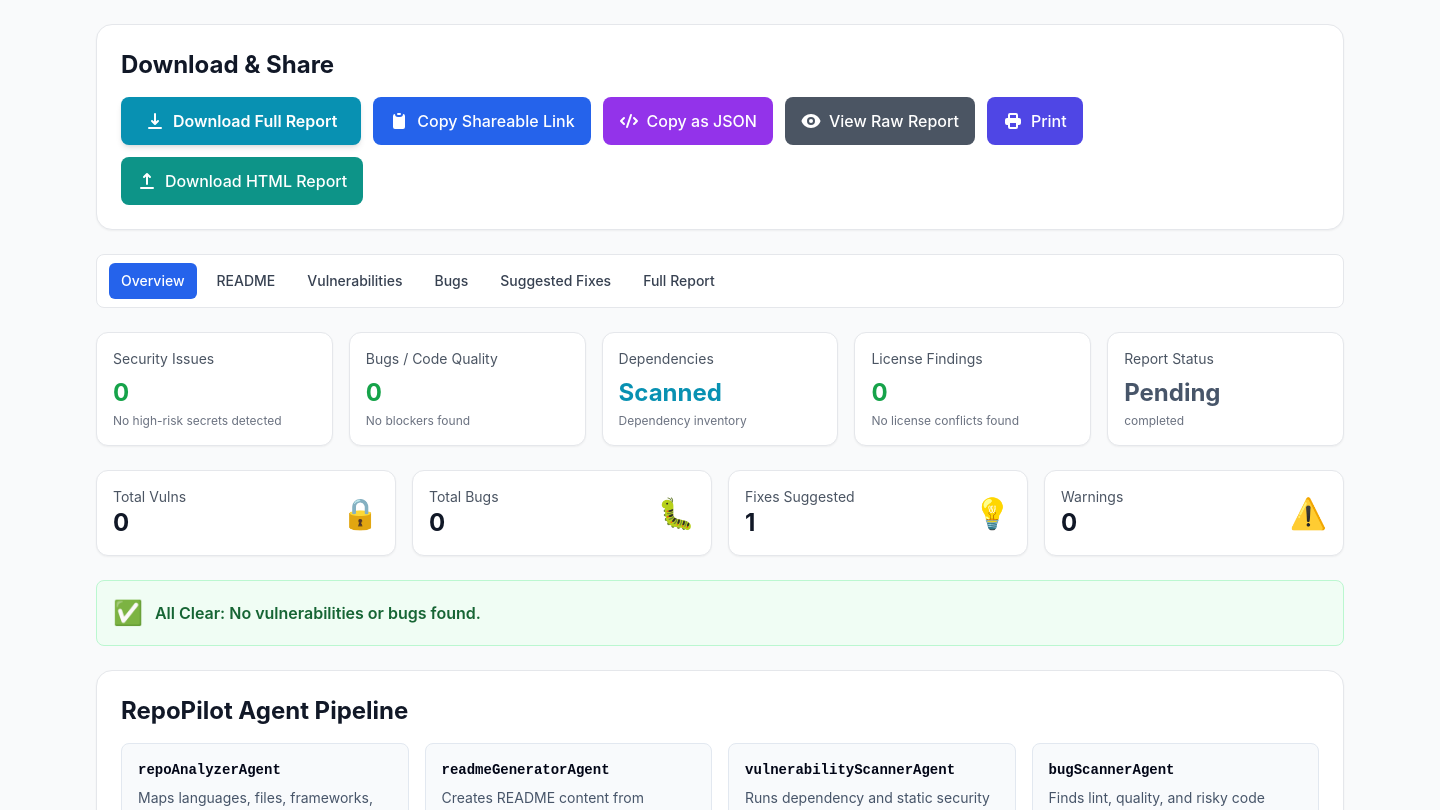
it: ResultsDashboard - All Clear and Warnings › should still display README and suggested fixes when showing "All Clear"
Check: the heading "All Clear: No vulnerabilities or bugs found." is shown, box 155,603 -> 481,623
Check: the tab "README" is shown, box 204,263 -> 287,299
Click the tab "Suggested Fixes".
click(556, 281)  # box 488,263 -> 623,299
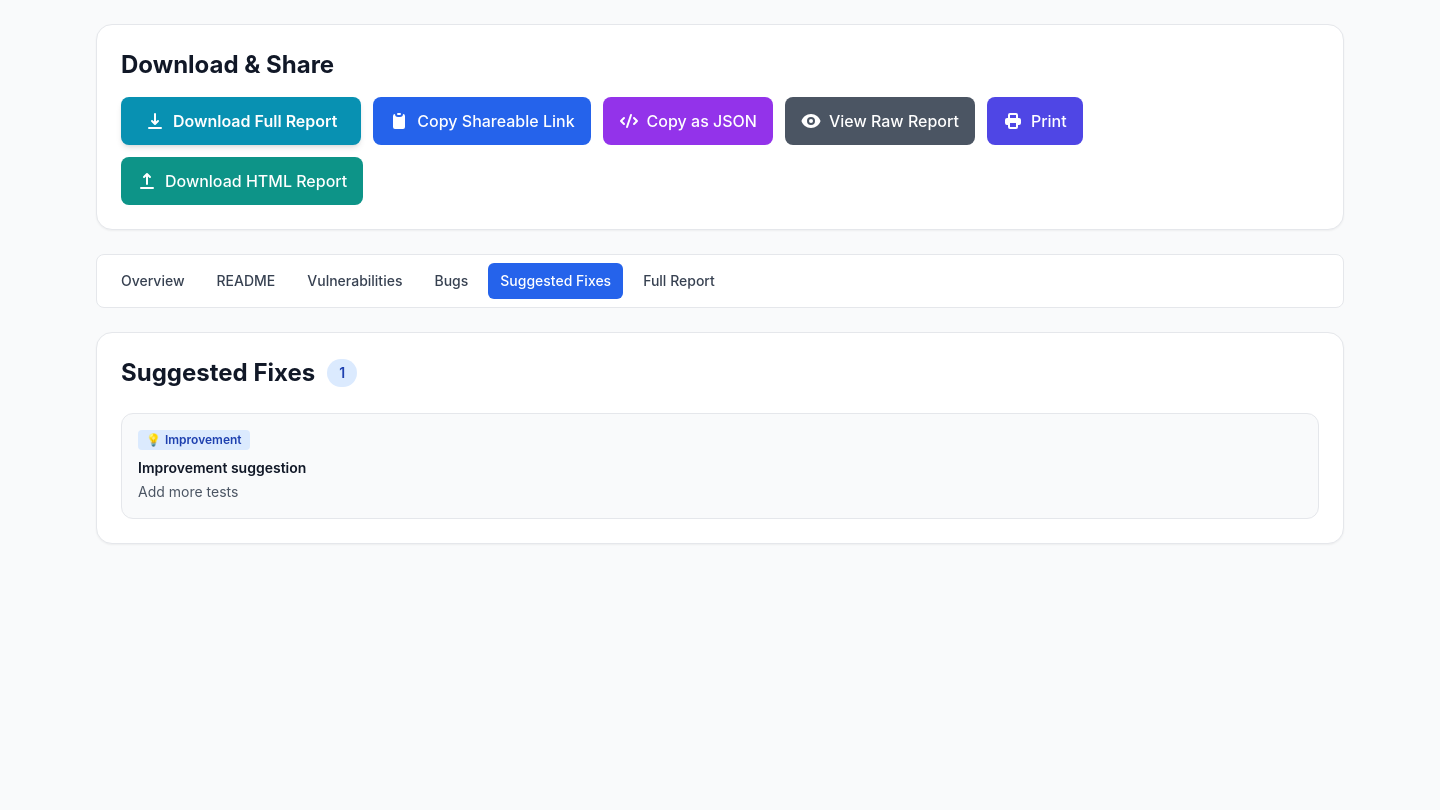
Check: the text "Improvement suggestion" is shown, box 138,459 -> 306,476
